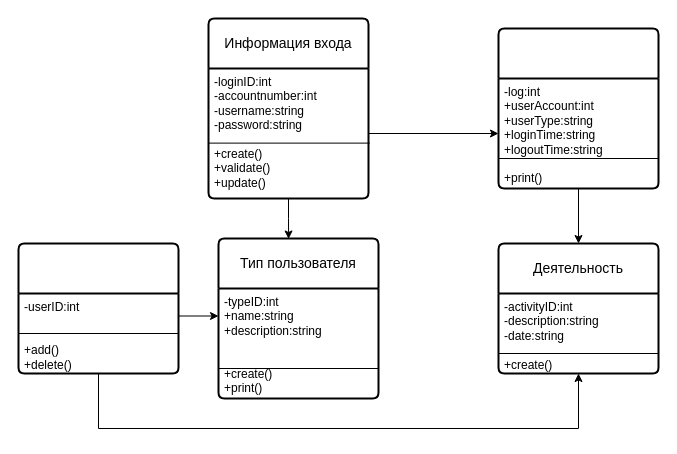
This 677x454 diagram has some shape labels left out. The shapes that lost their labels are listed below. From the top down, each one's box as (x1, y1, x2, y2) in pixels, then its label:
(497, 27, 659, 189): Логи
(17, 242, 179, 374): Информация о пользователе
